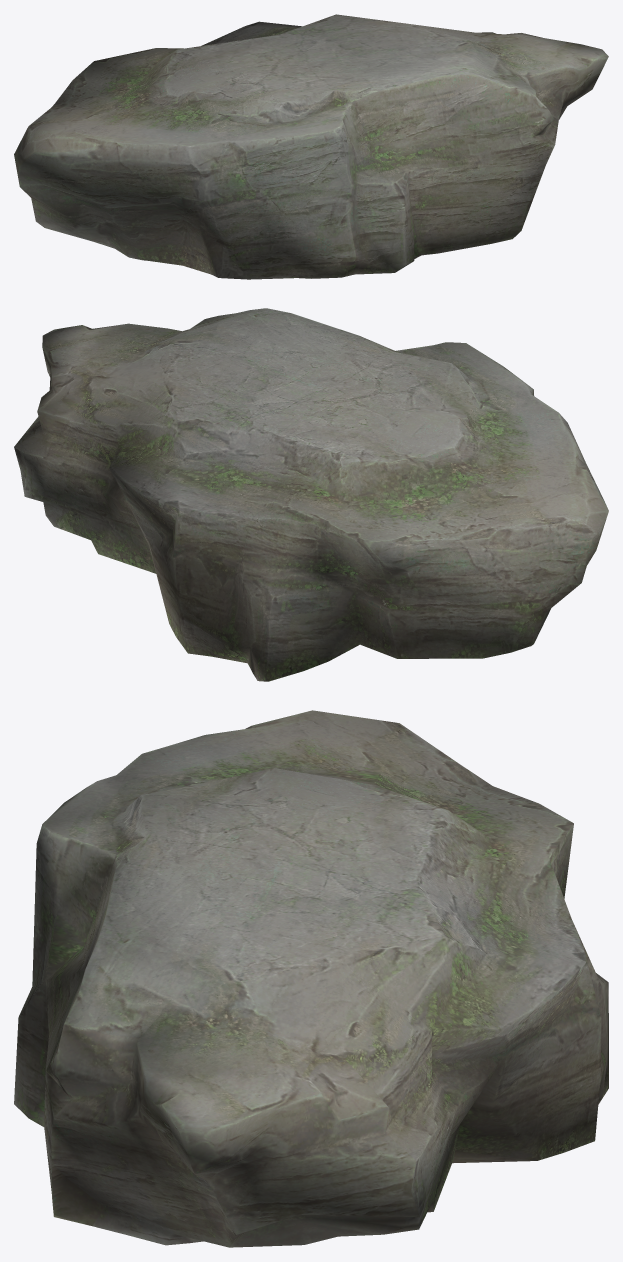
The model's file is CLX_shitou_10.FBX.
3 renders of one model, top to bottom at view 1: azimuth 30°, elevation 25°; view 2: azimuth 150°, elevation 25°; view 3: azimuth 270°, elevation 25°, orthographic. The views are drawn at different scales.
Visible parts, largest first — view 1: CLX_shitou_10; view 2: CLX_shitou_10; view 3: CLX_shitou_10.
Part boxes in pixels (x1,y1,x2,y2): CLX_shitou_10: (14, 14, 608, 279); CLX_shitou_10: (14, 308, 608, 681); CLX_shitou_10: (14, 710, 608, 1247).
Bounding box in the file's own units: 4.19 × 1.36 × 2.53.
